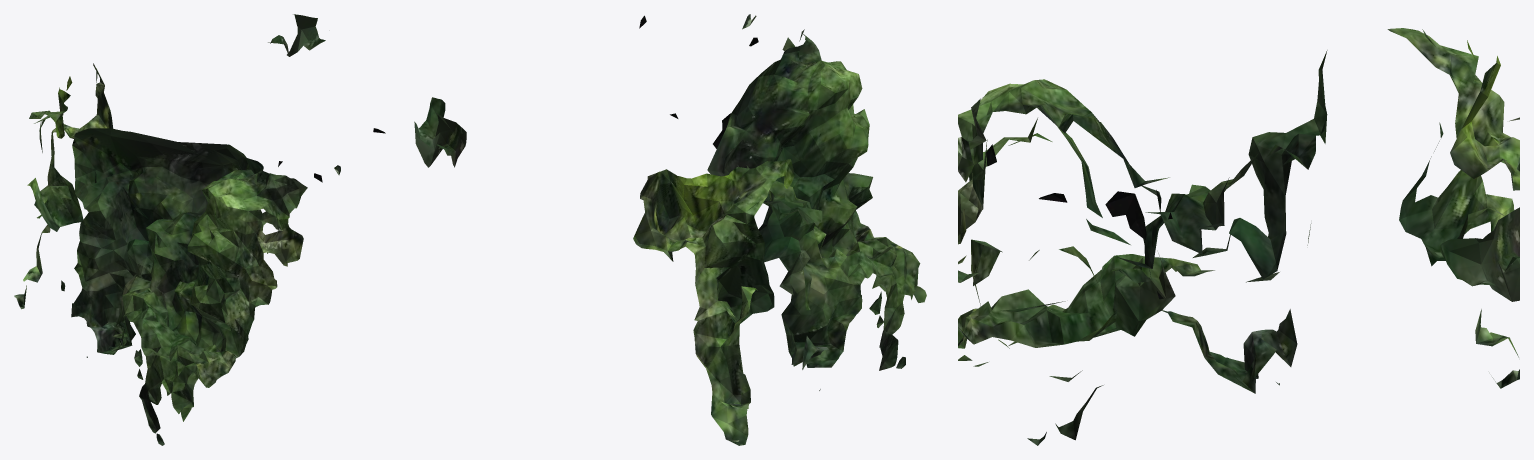
3 renders of one model, left to right at view 1: azimuth 30°, elevation 25°; view 2: azimuth 150°, elevation 25°; view 3: azimuth 270°, elevation 25°, orthographic. The views are drawn at different scales.
Size of the model in its own units: 26.11 by 21.92 by 26.11.
3 materials, 3 textured.
